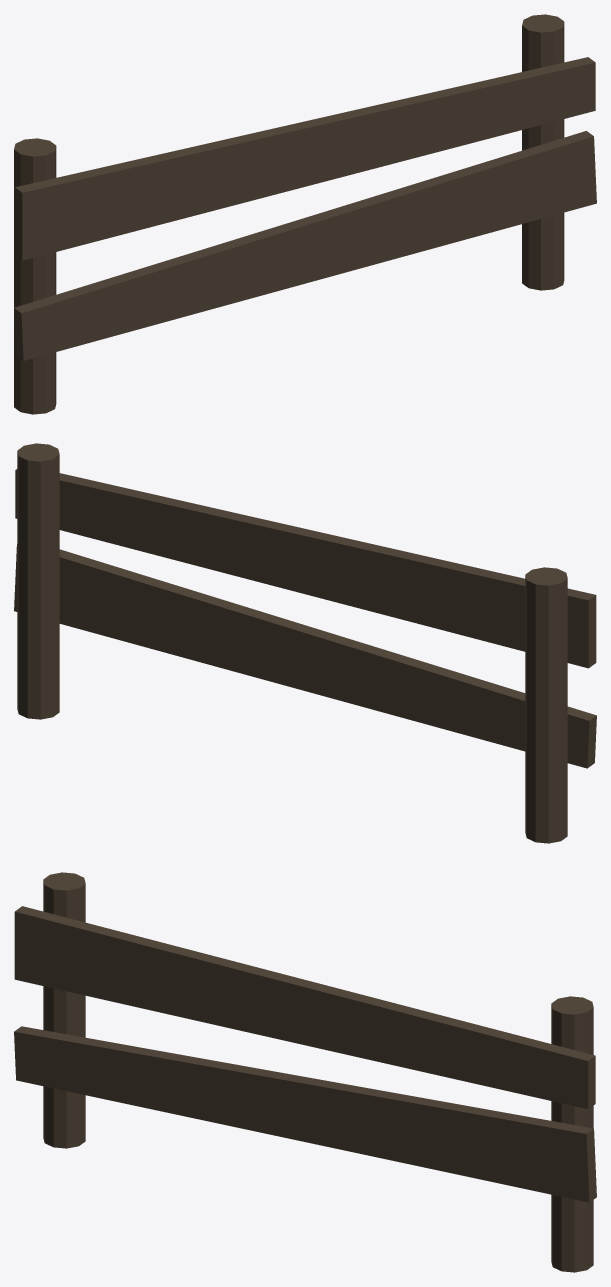
File: FenceWood4_1.fbx
3 renders of one model, top to bottom at view 1: azimuth 30°, elevation 25°; view 2: azimuth 150°, elevation 25°; view 3: azimuth 330°, elevation 25°, orthographic.
Visible parts, largest first — view 1: Fence.009; view 2: Fence.009; view 3: Fence.009.
Part boxes in pixels (x1,y1,x2,y2): Fence.009: (14,14,596,414); Fence.009: (14,443,596,843); Fence.009: (14,872,596,1272).
Size of the model in its own units: 264 by 113 by 23.24.
